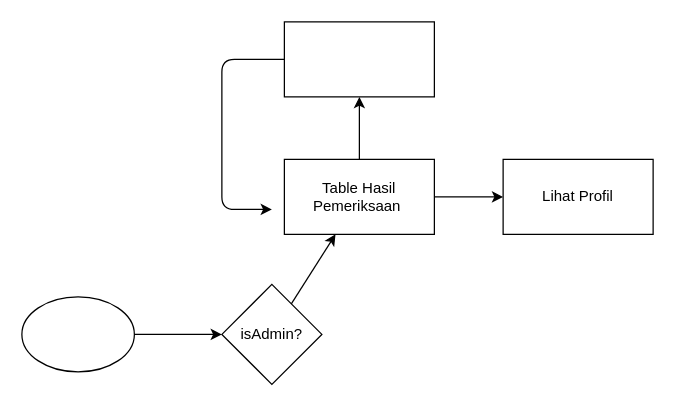
Some shapes in this 675 by 406 pixel diagram are drawn without their labels. Here are the shapes that lost their labels. From the top down, the centre of each, then its label:
(x=358, y=59): Buat baru
(x=77, y=334): Login
